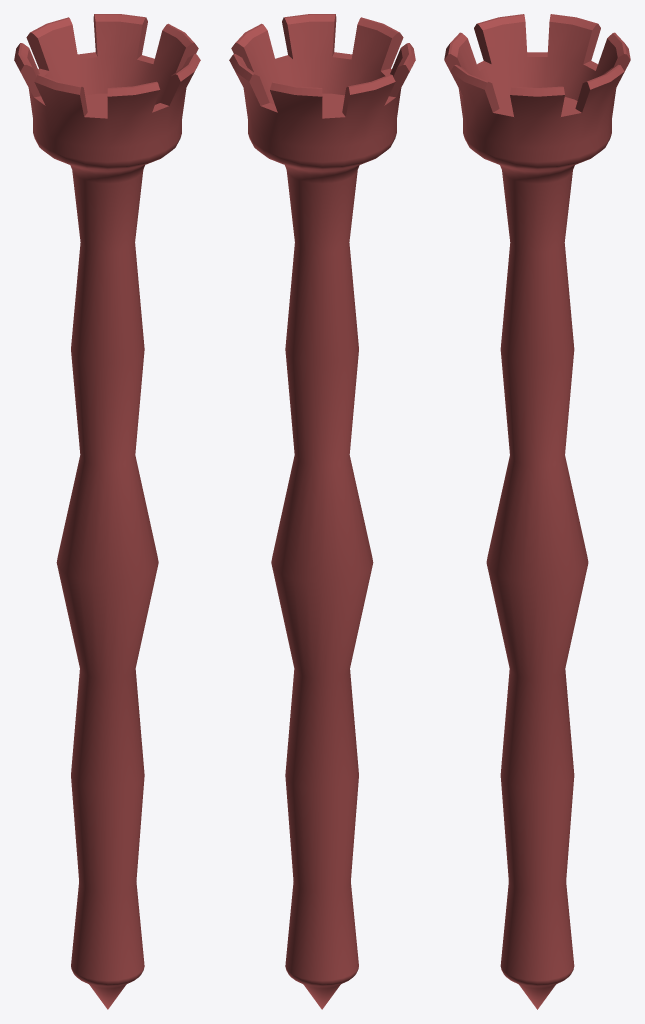
Rendered from Torch.fbx.
3 views of the same model, side by side, from view 1: azimuth 30°, elevation 25°; view 2: azimuth 150°, elevation 25°; view 3: azimuth 270°, elevation 25° (orthographic).
Parts seen in each view (by area): view 1: pCylinder1; view 2: pCylinder1; view 3: pCylinder1.
Boxes of the visible parts, <box> form: pCylinder1: <box>14,14,200,1009</box>; pCylinder1: <box>229,14,415,1009</box>; pCylinder1: <box>444,14,630,1009</box>.
Size of the model in its own units: 5.04 by 28.61 by 5.05.
